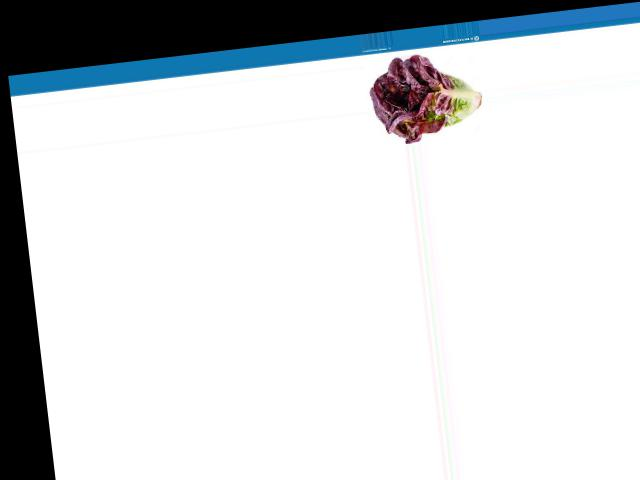lettuce: (367, 47, 486, 144)
